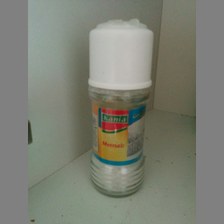spices: (87, 17, 154, 197)
